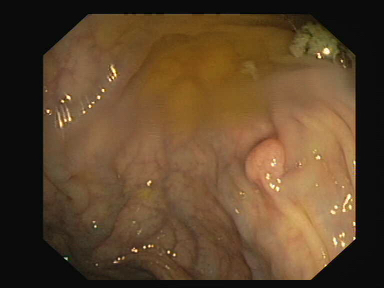polyp: (241, 136, 291, 191)
